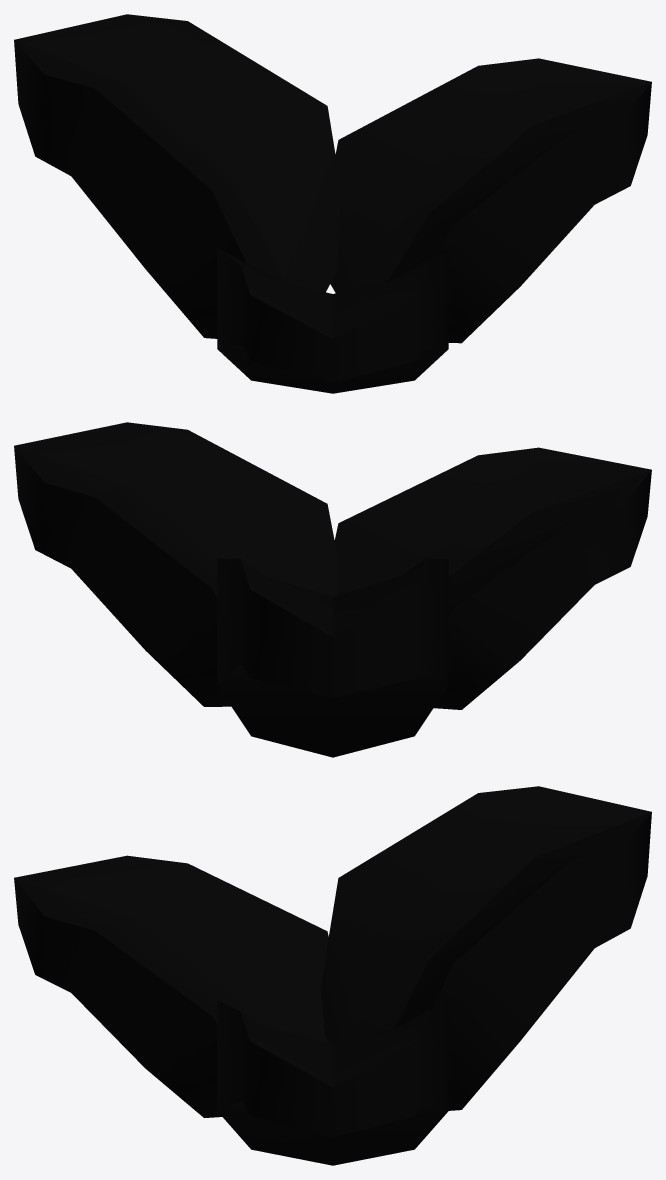
Rendered from plant.glb.
3 renders of one model, top to bottom at view 1: azimuth 30°, elevation 25°; view 2: azimuth 150°, elevation 25°; view 3: azimuth 270°, elevation 25°, orthographic.
Visible parts, largest first — view 1: plant; view 2: plant; view 3: plant.
Boxes of the visible parts, x1,y1,x2,y2 form: plant: [14, 14, 651, 393]; plant: [14, 422, 651, 757]; plant: [14, 786, 651, 1165].
Size of the model in its own units: 0.3964 by 0.1919 by 0.4305.
1 material, 1 textured.
